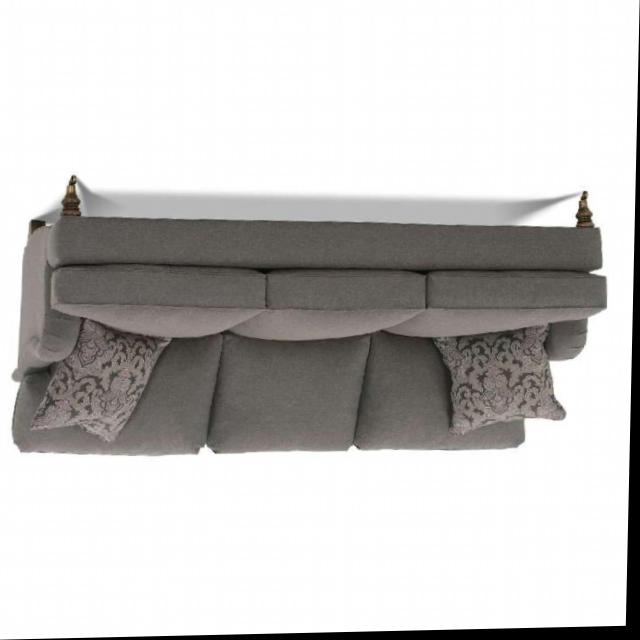Sofa: (10, 170, 611, 462)
